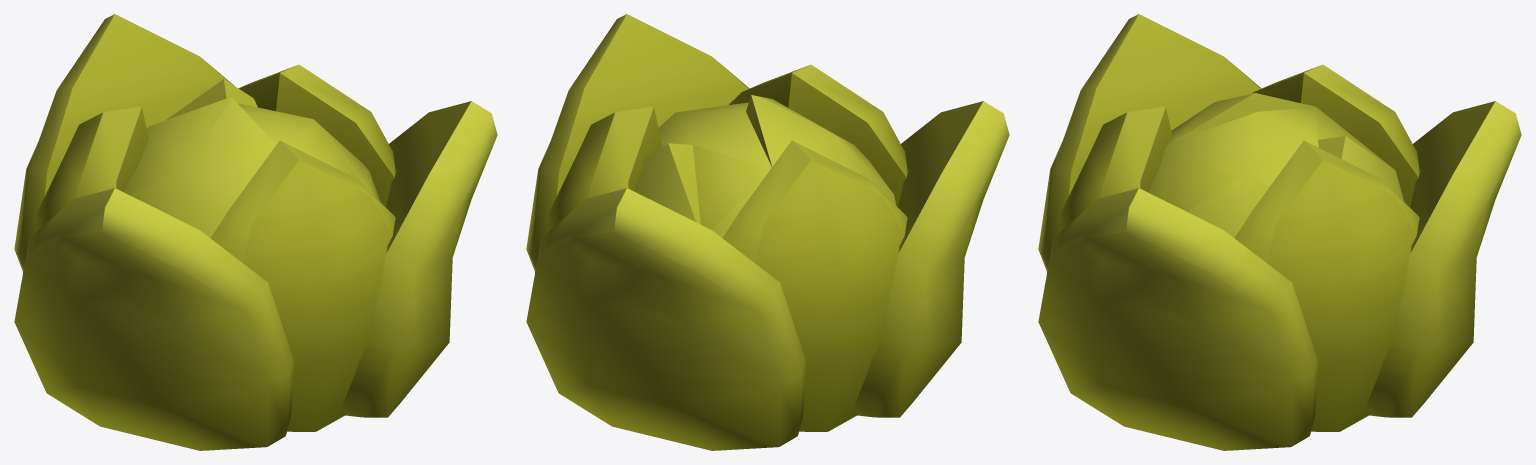
Rendered from sallad.glb.
3 views of the same model, side by side, from view 1: azimuth 30°, elevation 25°; view 2: azimuth 150°, elevation 25°; view 3: azimuth 270°, elevation 25° (orthographic).
Visible parts, largest first — view 1: food_ingredient_lettuce; view 2: food_ingredient_lettuce; view 3: food_ingredient_lettuce.
Boxes of the visible parts, x1,y1,x2,y2 form: food_ingredient_lettuce: (14, 14, 497, 450); food_ingredient_lettuce: (526, 14, 1009, 450); food_ingredient_lettuce: (1038, 14, 1521, 450).
Bounding box in the file's own units: 1.1 × 0.8205 × 1.13.
1 material, 1 textured.
